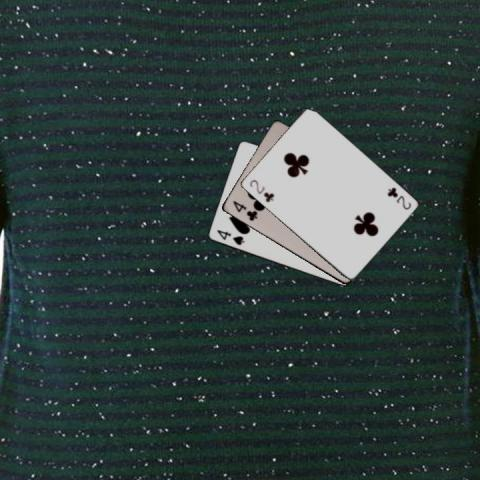2c: (384, 184, 413, 211), (246, 177, 275, 203)
4c: (229, 197, 259, 223)
4s: (213, 227, 246, 246)
